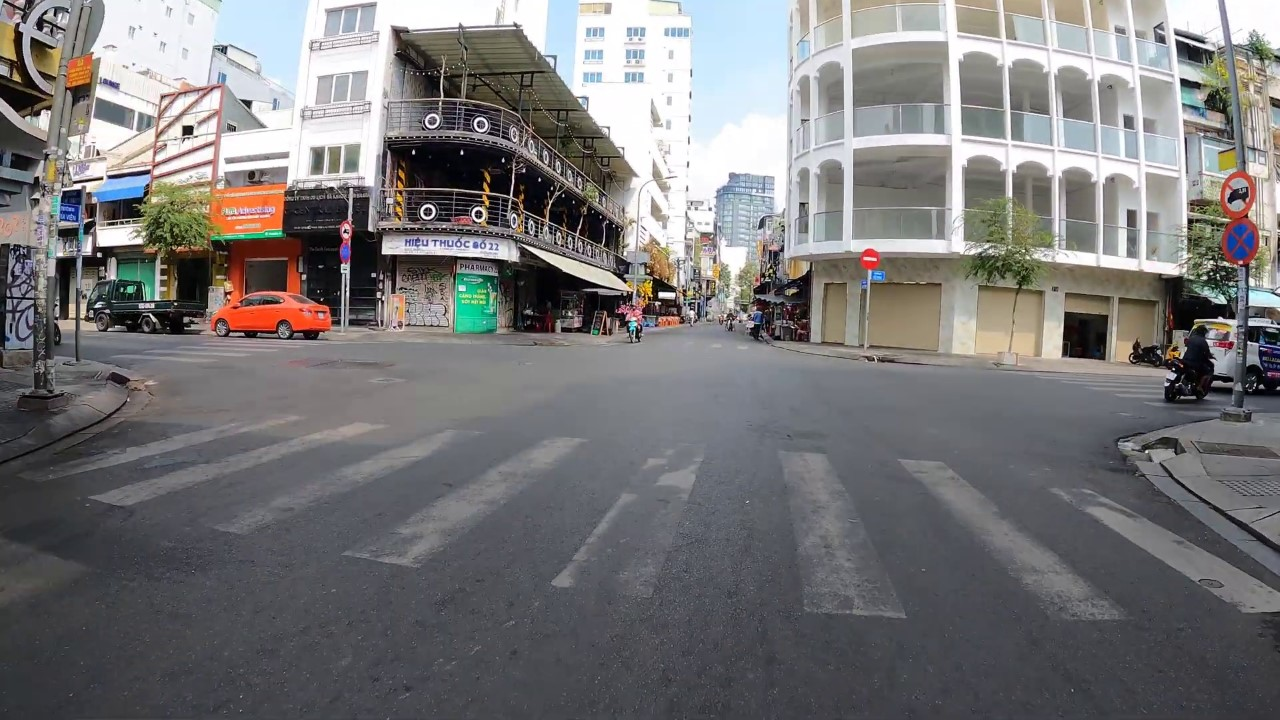cam_nguoc_chieu: (859, 248, 881, 271)
